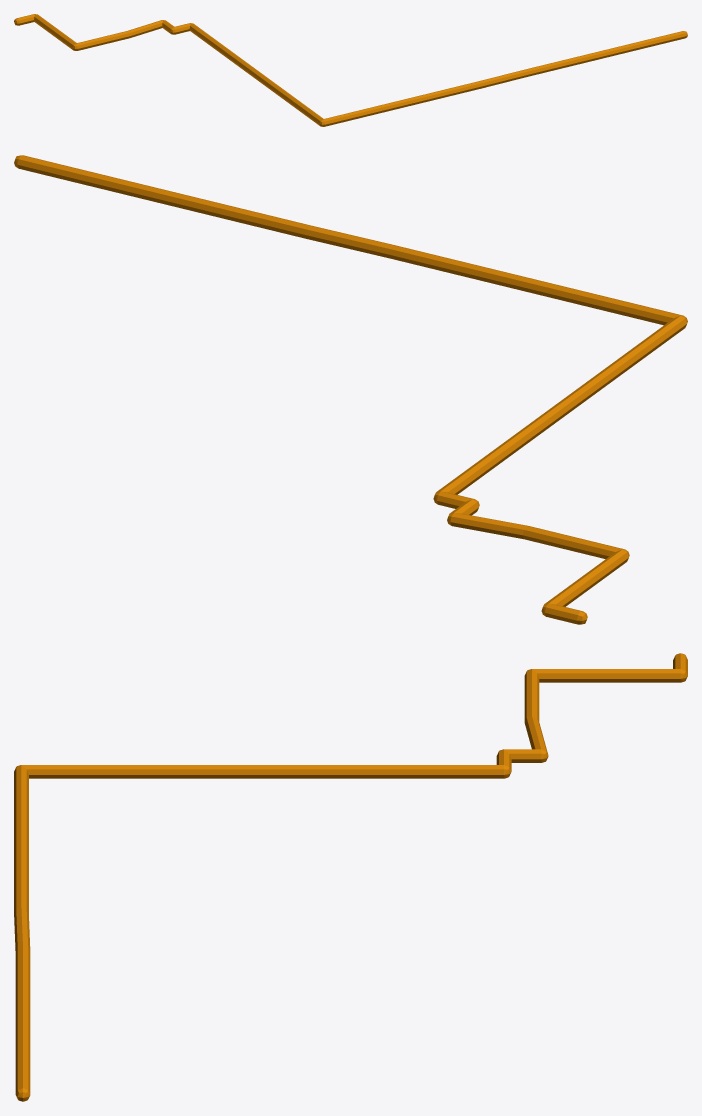
The picture shows the model from 3 angles, top to bottom: view 1: azimuth 30°, elevation 25°; view 2: azimuth 150°, elevation 25°; view 3: azimuth 270°, elevation 25°; orthographic projection. The views are drawn at different scales.
Size of the model in its own units: 1405 by 20 by 908.
